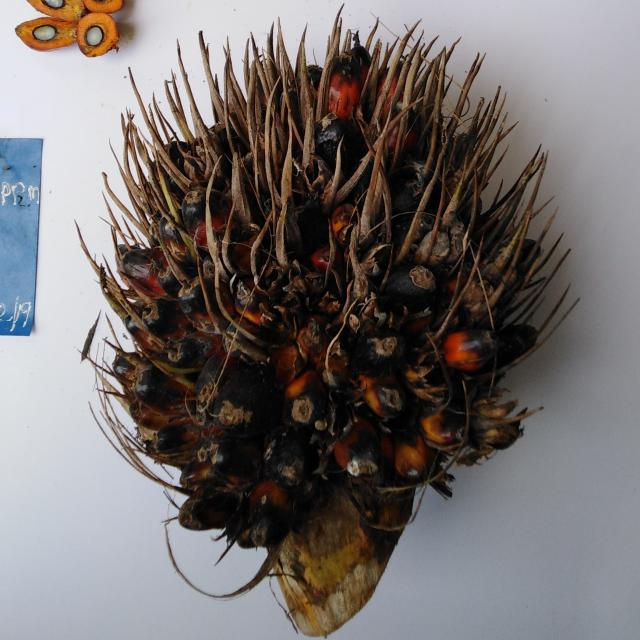FFB: (141, 61, 517, 528)
